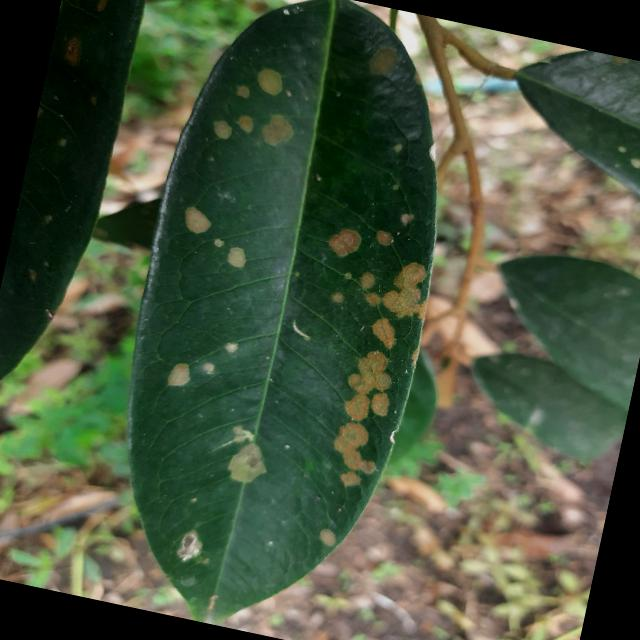Algal Leaf Spot: (68, 0, 496, 639)
